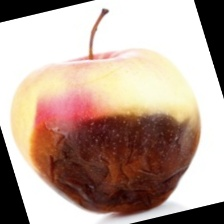apple: (53, 42, 209, 219)
